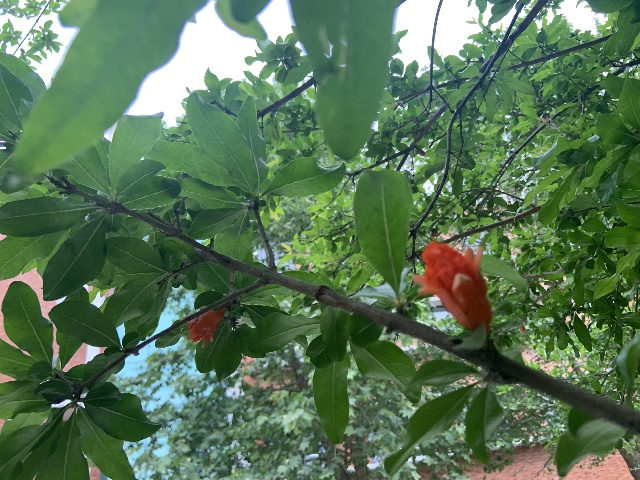flower: (412, 241, 492, 330), (187, 307, 224, 347)
